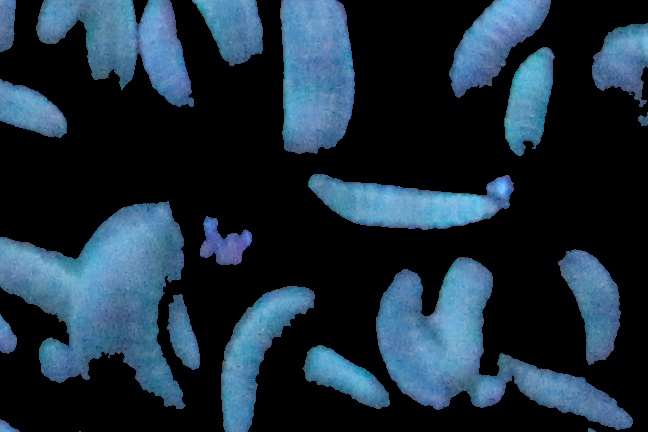larvae: (83, 165, 189, 432), (300, 161, 516, 248), (263, 1, 372, 151), (211, 281, 312, 432), (548, 231, 643, 389), (448, 1, 566, 120), (368, 263, 446, 417), (139, 1, 213, 108), (432, 260, 498, 375), (1, 233, 81, 313), (508, 51, 557, 158), (84, 1, 139, 96), (302, 347, 384, 408), (1, 86, 77, 146)
